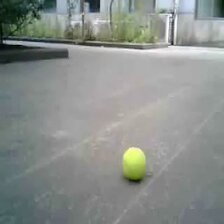tennis: (123, 147, 146, 179)
